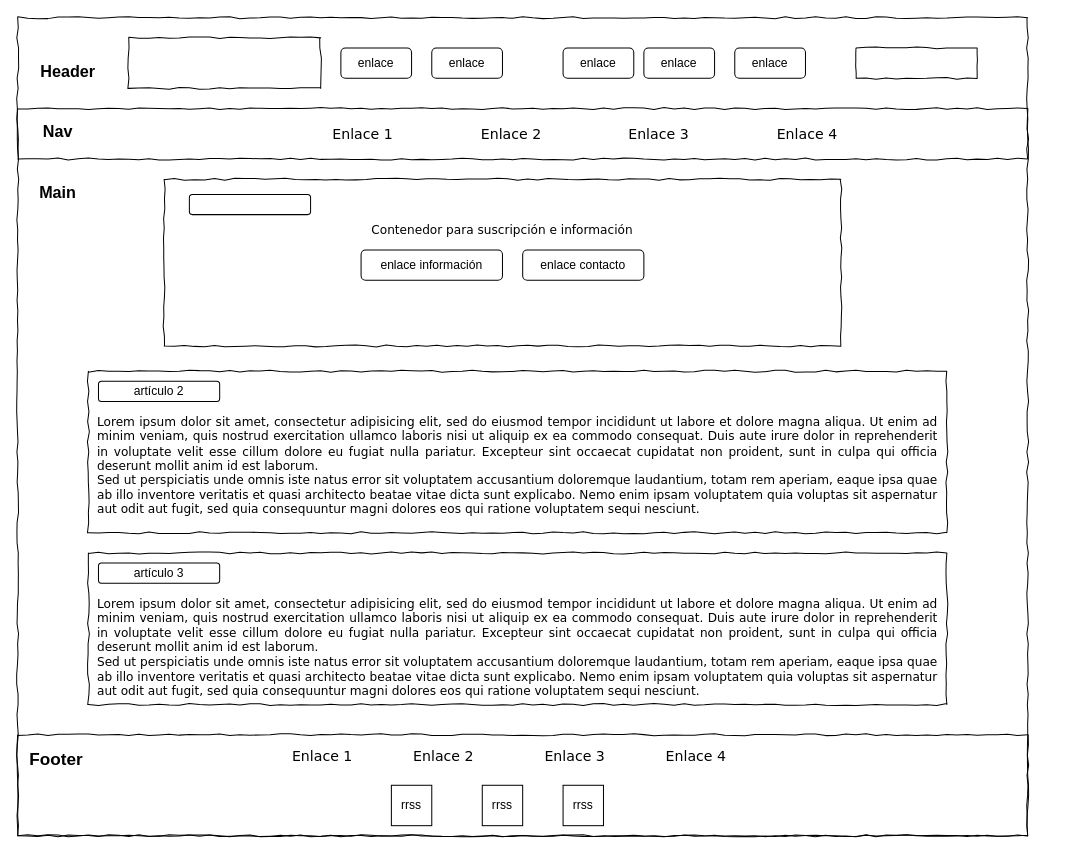
This 1086x853 diagram has some shape labels left out. The shapes that lost their labels are listed below. From the top down, each one's box as (x1, y1, x2, y2) in pixels, then its label:
(128, 37, 321, 88): LOGO
(855, 47, 977, 78): login
(188, 193, 311, 215): artículo 1
